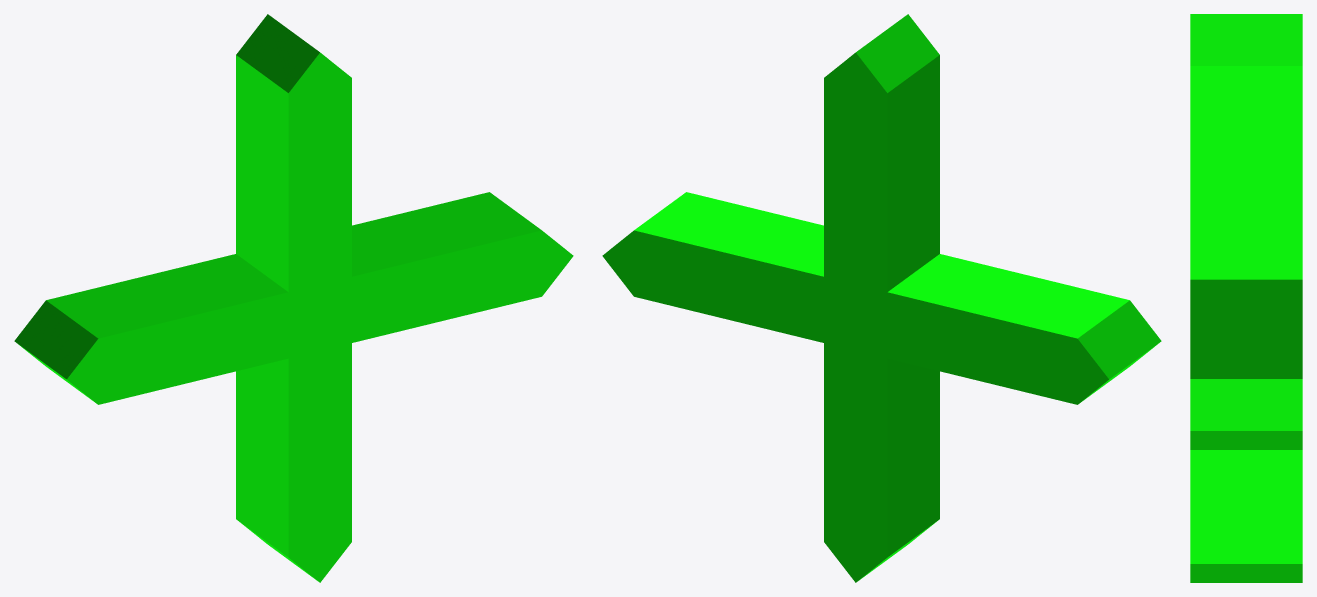
File: add_plus.FBX
3 renders of one model, left to right at view 1: azimuth 30°, elevation 25°; view 2: azimuth 150°, elevation 25°; view 3: azimuth 270°, elevation 25°, orthographic. The views are drawn at different scales.
Parts seen in each view (by area): view 1: add_horiz; view 2: add_horiz; view 3: add_horiz.
Boxes of the visible parts, x1,y1,x2,y2 form: add_horiz: (14,14,573,582); add_horiz: (602,14,1161,582); add_horiz: (1190,14,1302,582).
Bounding box in the file's own units: 73.78 × 73.78 × 13.22.
